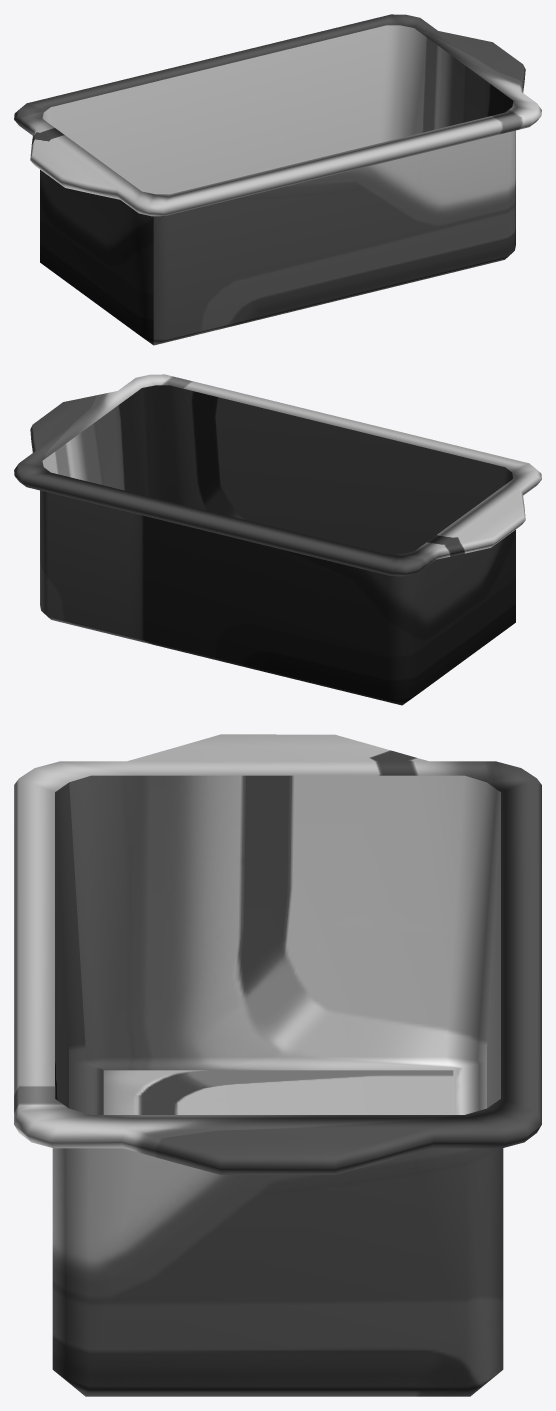
Rendered from Tray_Deep_01.fbx.
The picture shows the model from 3 angles, top to bottom: view 1: azimuth 30°, elevation 25°; view 2: azimuth 150°, elevation 25°; view 3: azimuth 270°, elevation 25°; orthographic projection. The views are drawn at different scales.
Parts seen in each view (by area): view 1: Tray_Deep_01; view 2: Tray_Deep_01; view 3: Tray_Deep_01.
Boxes of the visible parts, left/top/right/bottom form: Tray_Deep_01: left=14, top=14, right=541, bottom=345; Tray_Deep_01: left=14, top=374, right=541, bottom=705; Tray_Deep_01: left=14, top=734, right=541, bottom=1396.
Size of the model in its own units: 78.7 by 25.19 by 41.34.
